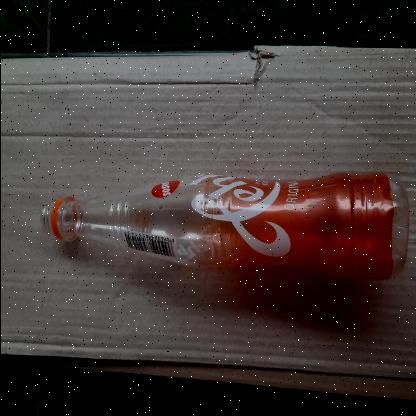Plastic Bottle: (37, 170, 408, 280)
